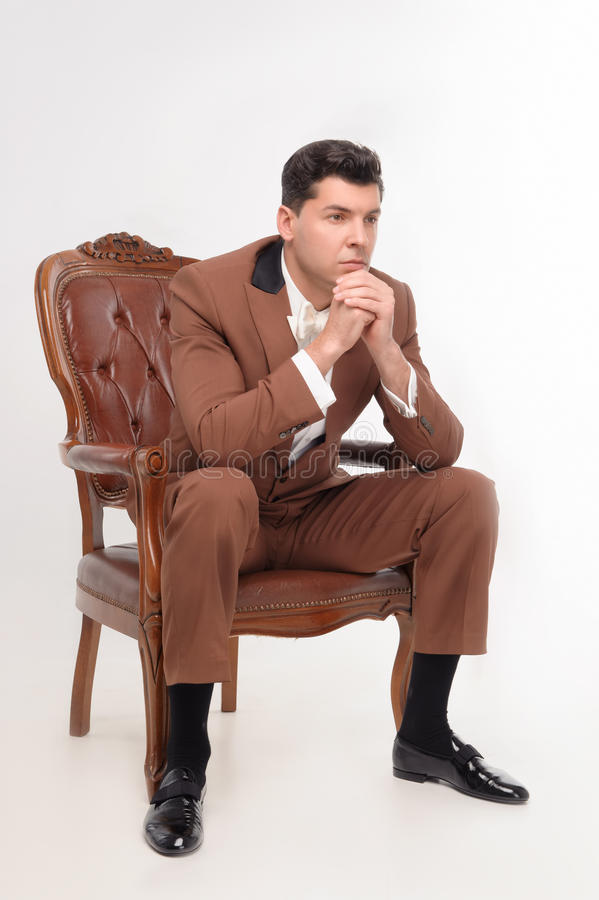chairs: (28, 229, 450, 804)
